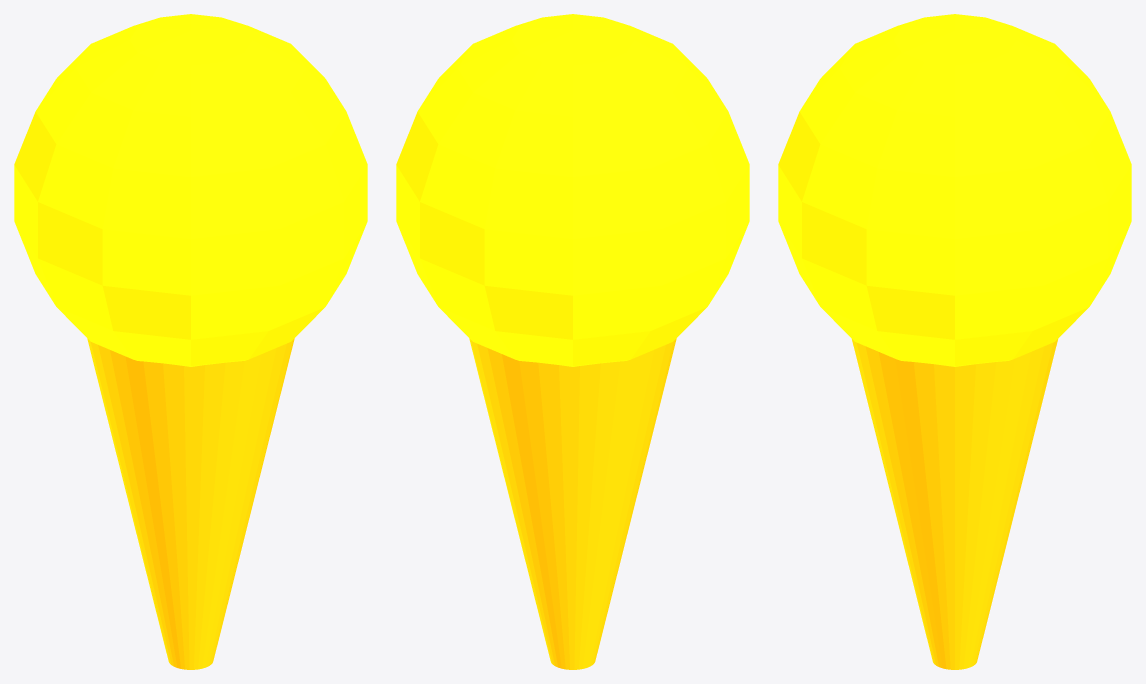
File: bala_fuego_mesh.glb
3 views of the same model, side by side, from view 1: azimuth 30°, elevation 25°; view 2: azimuth 150°, elevation 25°; view 3: azimuth 270°, elevation 25° (orthographic).
Parts seen in each view (by area): view 1: BalaFuego; view 2: BalaFuego; view 3: BalaFuego.
Boxes of the visible parts, box(x1,y1,x2,y2) form: BalaFuego: box(14, 14, 367, 669); BalaFuego: box(396, 14, 749, 669); BalaFuego: box(778, 14, 1131, 669).
Bounding box in the file's own units: 0.1576 × 0.31 × 0.1576.
